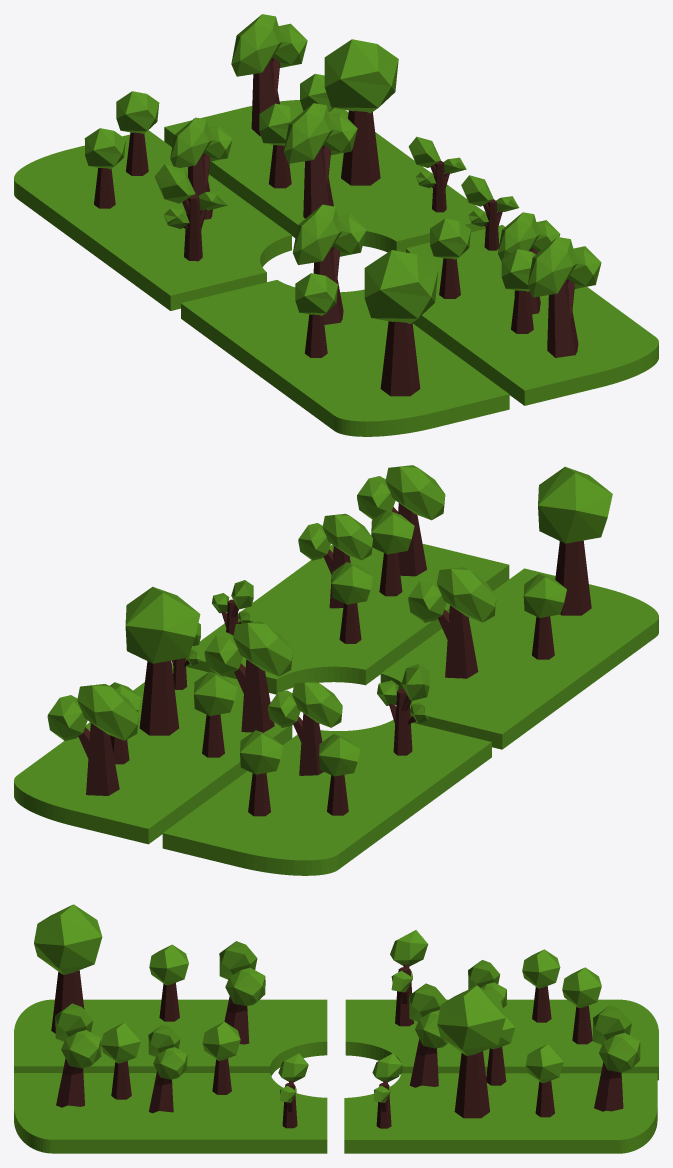
The model's file is midfield.gltf.
3 views of the same model, one above another, from view 1: azimuth 30°, elevation 25°; view 2: azimuth 150°, elevation 25°; view 3: azimuth 270°, elevation 25° (orthographic). The views are drawn at different scales.
Parts seen in each view (by area): view 1: Cube.028, Икосфера.013, Цилиндр.007; view 2: Cube.028, Икосфера.013, Цилиндр.007; view 3: Cube.028, Икосфера.013, Цилиндр.007.
Boxes of the visible parts, left/top/right/bottom form: Cube.028: left=14, top=100, right=658, bottom=436; Икосфера.013: left=84, top=14, right=601, bottom=323; Цилиндр.007: left=94, top=58, right=578, bottom=396; Cube.028: left=14, top=544, right=658, bottom=875; Икосфера.013: left=47, top=465, right=612, bottom=776; Цилиндр.007: left=78, top=503, right=591, bottom=816; Cube.028: left=14, top=999, right=658, bottom=1153; Икосфера.013: left=34, top=904, right=640, bottom=1102; Цилиндр.007: left=51, top=964, right=623, bottom=1128.
Size of the model in its own units: 2.17 by 1 by 4.21.
